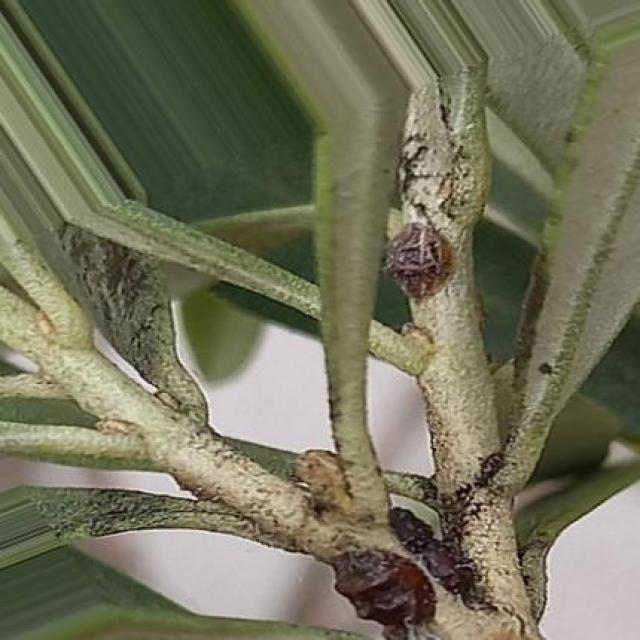BlackScale: (328, 550, 430, 638), (382, 222, 452, 299)
